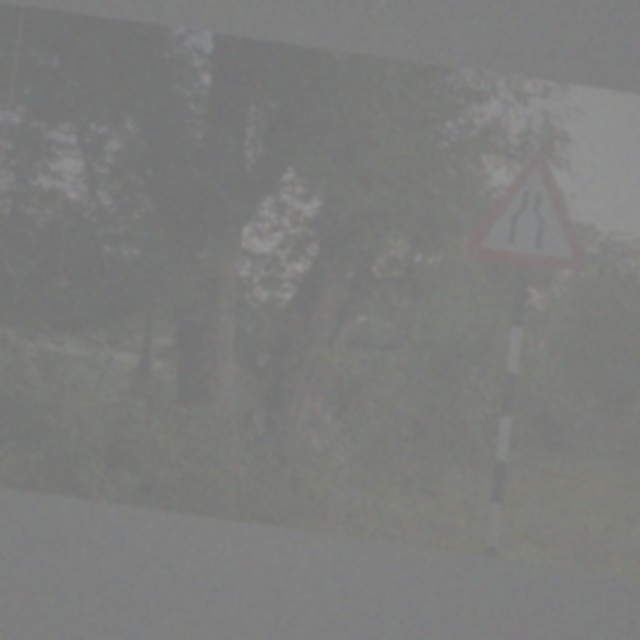Narrow_Road_Ahead: (461, 140, 605, 277)
